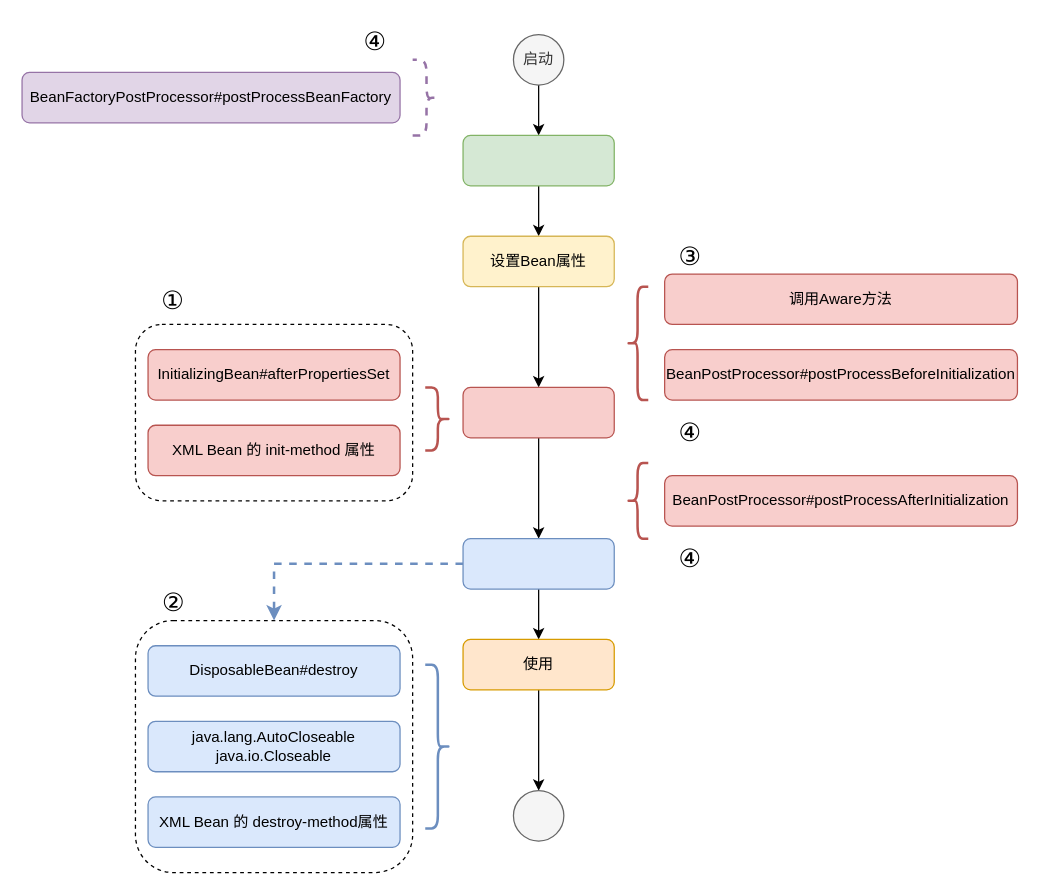
Image size: 1040x895. Some labels were removed from this diagram. The shapes that lost their labels are listed below. From the top down, each one's centre as x and y in pixels, then its label:
point 538,160: 实例化Bean
point 538,412: 初始化Bean
point 538,563: 注册销毁回调
point 538,815: 结束
